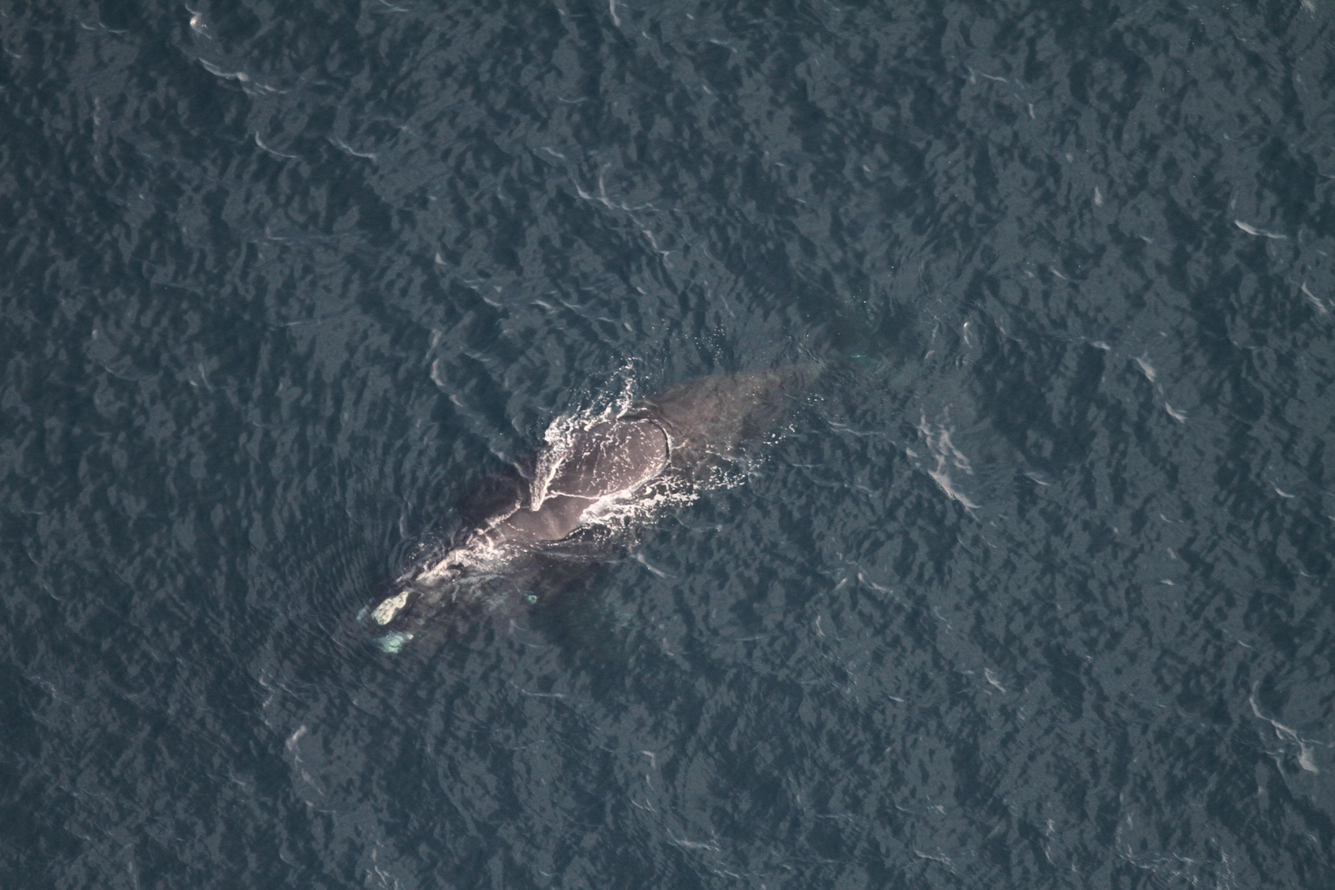whale: (348, 279, 966, 664)
